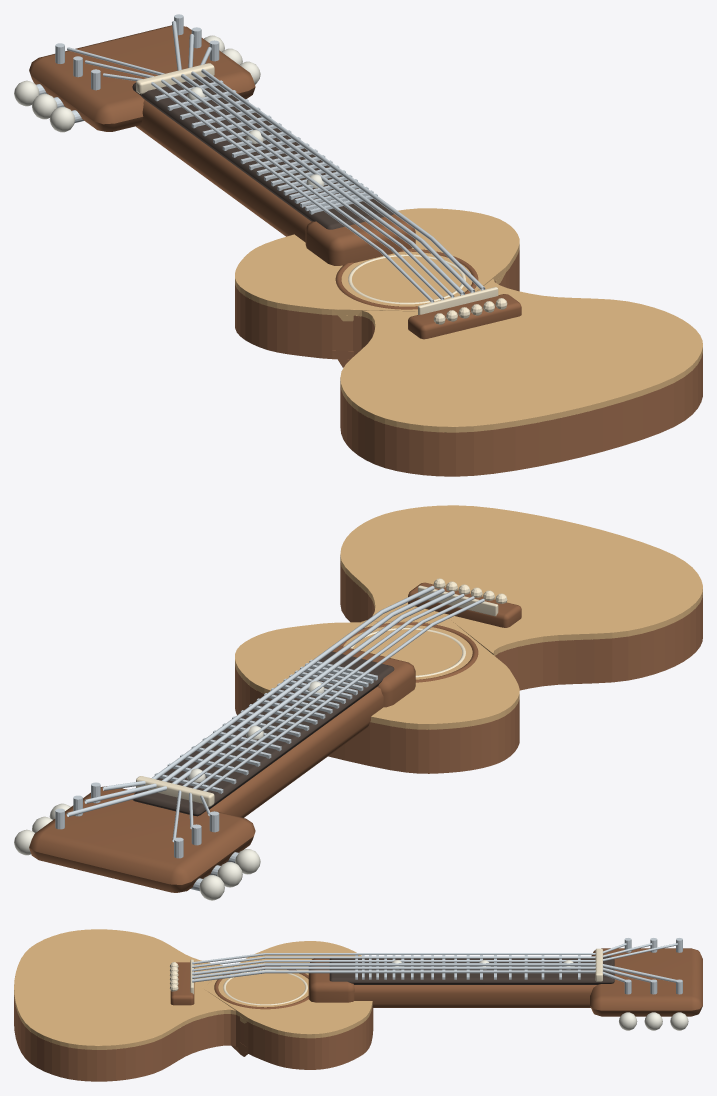
Rendered from guitarra-acustica.glb.
3 renders of one model, top to bottom at view 1: azimuth 30°, elevation 25°; view 2: azimuth 150°, elevation 25°; view 3: azimuth 270°, elevation 25°, orthographic. The views are drawn at different scales.
Visible parts, largest first — view 1: Tapa_armonica_desmontable, Aros_del_cuerpo, Pala, Diapason, Mastil, Trastes, Talon_del_mastil, Fondo_del_cuerpo, Puente, Cuerda_4, Cuerda_5, Cuerda_6 (+7 smaller); view 2: Tapa_armonica_desmontable, Aros_del_cuerpo, Pala, Diapason, Mastil, Trastes, Cuerda_4, Cuerda_5, Cuerda_6, Fondo_del_cuerpo, Cuerda_3, Cuerda_2 (+7 smaller); view 3: Tapa_armonica_desmontable, Aros_del_cuerpo, Pala, Mastil, Diapason, Cuerda_4, Cuerda_5, Cuerda_6, Cuerda_3, Cuerda_2, Talon_del_mastil, Fondo_del_cuerpo (+9 smaller).
Boxes of the visible parts, x1,y1,x2,y2 form: Tapa_armonica_desmontable: (235, 208, 702, 432); Aros_del_cuerpo: (235, 250, 702, 476); Pala: (29, 25, 255, 131); Diapason: (132, 76, 393, 229); Mastil: (136, 100, 311, 242); Trastes: (154, 80, 377, 214); Talon_del_mastil: (305, 214, 415, 265); Fondo_del_cuerpo: (235, 322, 702, 476); Puente: (408, 294, 521, 339); Cuerda_4: (172, 21, 464, 295); Cuerda_5: (188, 34, 474, 292); Cuerda_6: (200, 47, 485, 290); Tapa_armonica_desmontable: (235, 505, 702, 729); Aros_del_cuerpo: (235, 561, 702, 773); Pala: (29, 786, 255, 892); Diapason: (132, 651, 394, 816); Mastil: (209, 686, 383, 817); Trastes: (154, 659, 377, 793); Cuerda_4: (66, 590, 454, 816); Cuerda_5: (84, 588, 444, 803); Cuerda_6: (102, 585, 434, 790); Fondo_del_cuerpo: (235, 592, 702, 773); Cuerda_3: (172, 594, 464, 842); Cuerda_2: (189, 596, 474, 828); Tapa_armonica_desmontable: (14, 929, 372, 1049); Aros_del_cuerpo: (14, 995, 373, 1081); Pala: (590, 948, 702, 1016); Mastil: (354, 985, 596, 1007); Diapason: (329, 956, 614, 984); Cuerda_4: (192, 963, 676, 982); Cuerda_5: (192, 966, 650, 982); Cuerda_6: (192, 970, 625, 982); Cuerda_3: (192, 943, 677, 971); Cuerda_2: (192, 943, 652, 967); Talon_del_mastil: (308, 958, 354, 1002); Fondo_del_cuerpo: (14, 1022, 373, 1081).
Bounding box in the file's own units: 2.69 × 0.7468 × 6.71.
